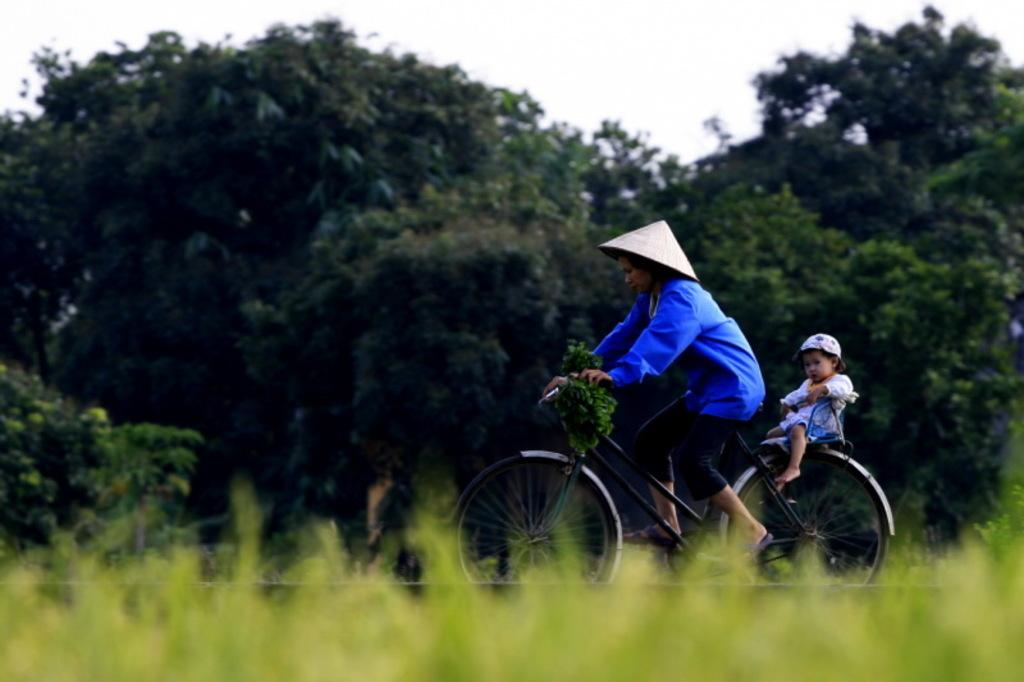Hat: (598, 220, 698, 280)
